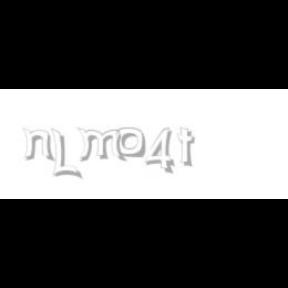4: (144, 128, 176, 174)
L: (51, 128, 79, 180)
m: (76, 128, 128, 162)
n: (22, 128, 56, 162)
o: (116, 128, 146, 158)
t: (177, 128, 199, 168)
